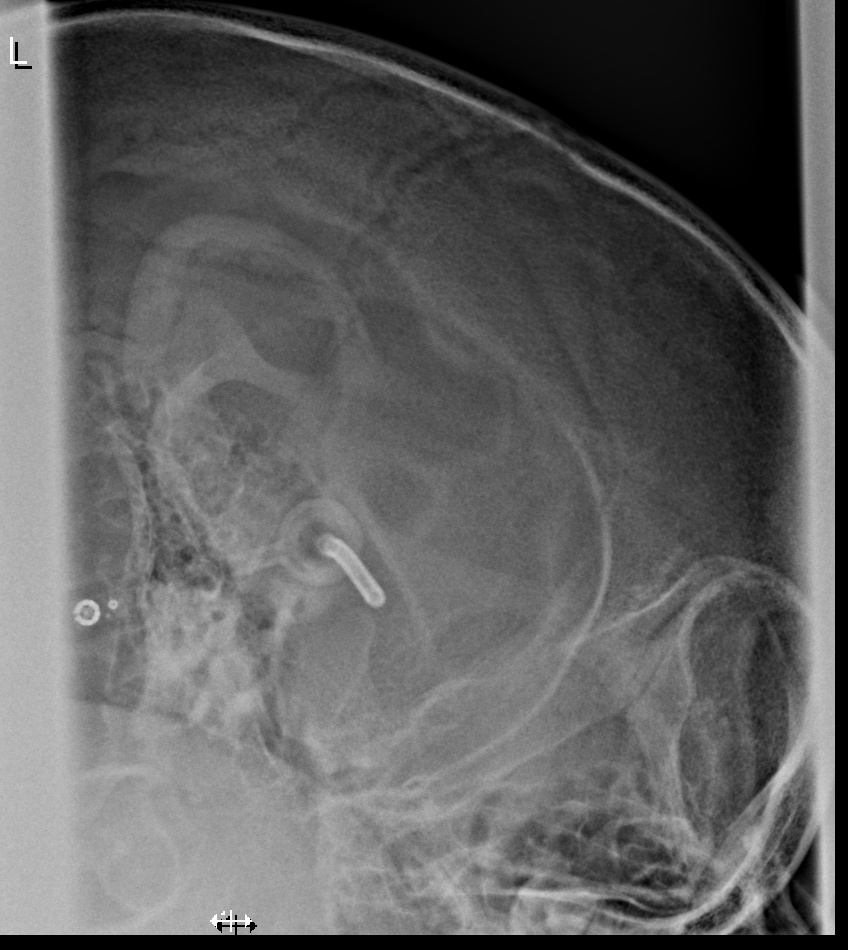Codman Hakim: (64, 575, 140, 636)
